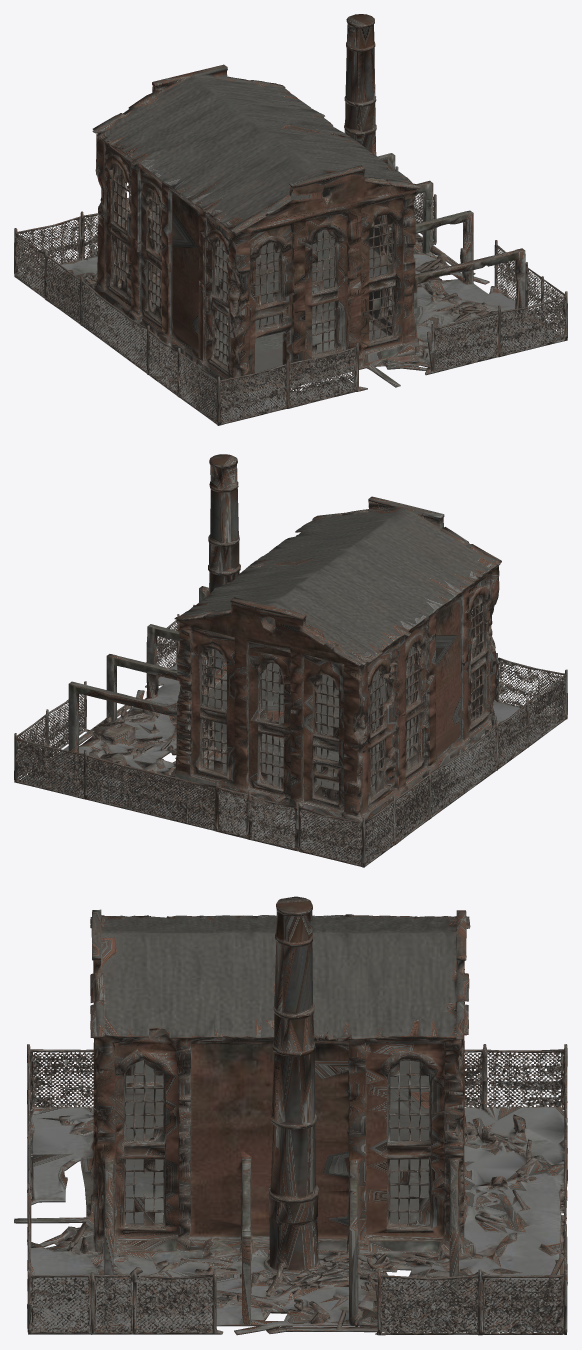
File: factory_a.glb
3 renders of one model, top to bottom at view 1: azimuth 30°, elevation 25°; view 2: azimuth 150°, elevation 25°; view 3: azimuth 270°, elevation 25°, orthographic. The views are drawn at different scales.
Size of the model in its own units: 32.32 by 24 by 33.27.
1 material, 1 textured.
